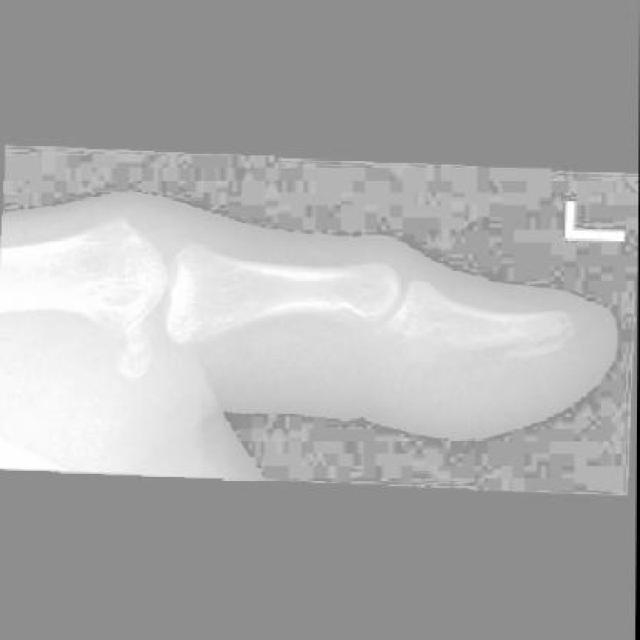Fracture: (397, 288, 584, 387)
